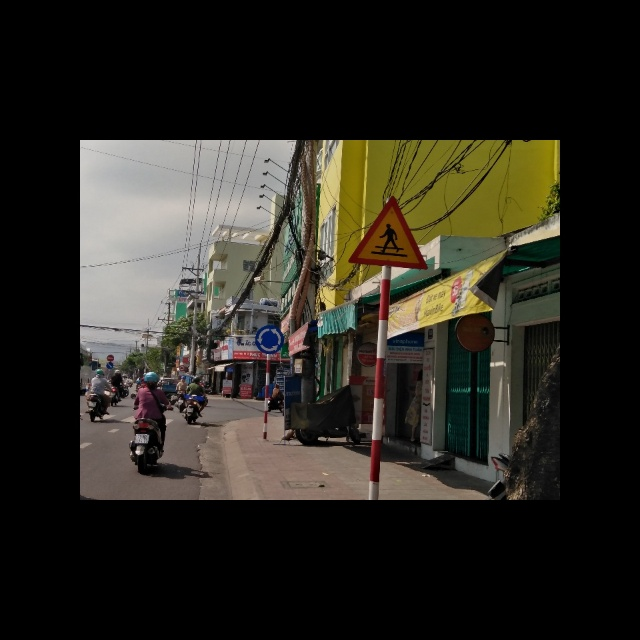Nơi giao nhau chạy theo vòng xuyến: (254, 324, 284, 353)
Đường người đi bộ sang đường: (346, 194, 429, 271)
